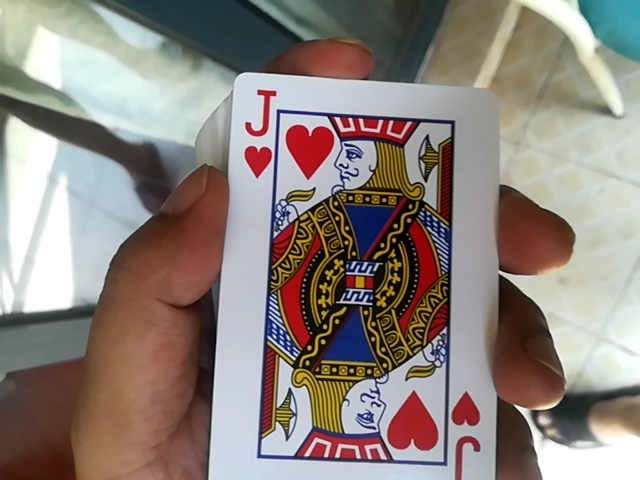hx j: (206, 58, 489, 475)
